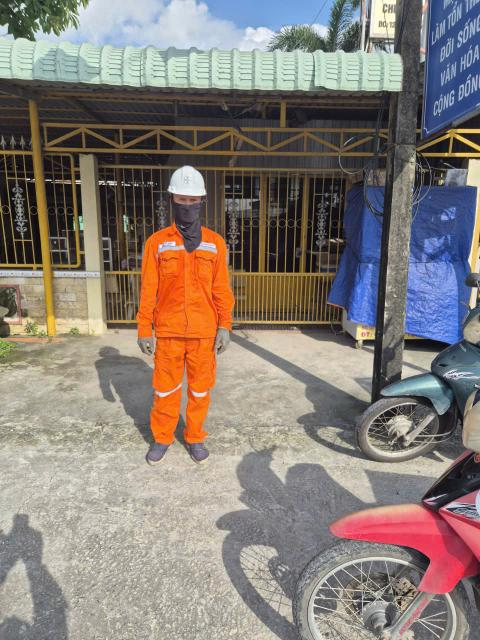gloves: (208, 322, 243, 363), (137, 328, 163, 367)
helmet: (160, 159, 214, 203)
shoes: (127, 428, 174, 468), (190, 430, 215, 466)
